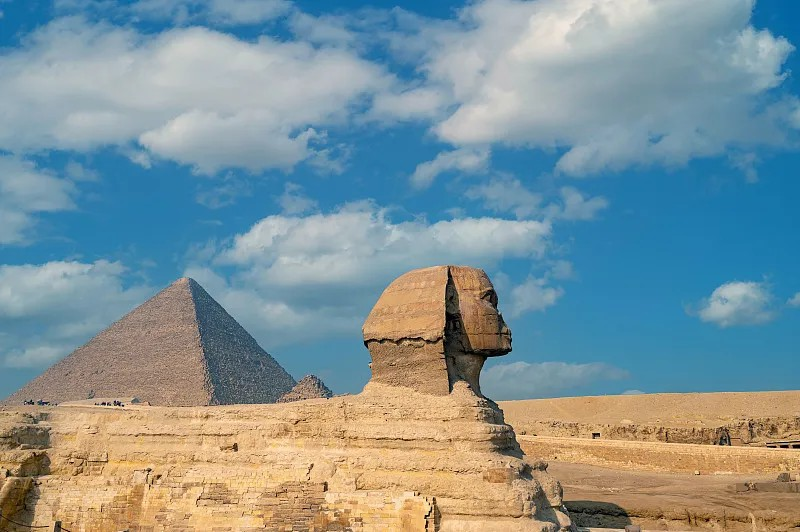Pyramid: (4, 277, 296, 405), (272, 373, 333, 401)
